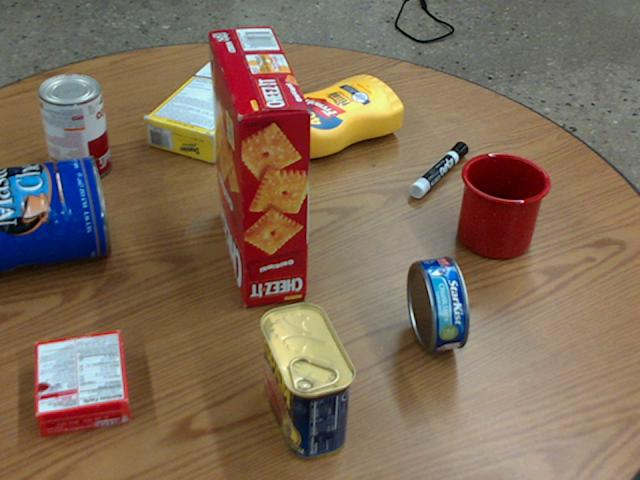cracker_box: (206, 26, 310, 306)
gelatin_box: (35, 329, 130, 435)
large_marker: (409, 141, 468, 197)
master_chef_can: (0, 154, 109, 273)
mug: (456, 151, 550, 258)
mustard_bottle: (250, 76, 403, 157)
potted_meat_can: (259, 302, 357, 458)
sugar_box: (144, 54, 277, 162)
tomato_soup_can: (38, 73, 109, 182)
tuna_fish_can: (408, 255, 468, 351)
